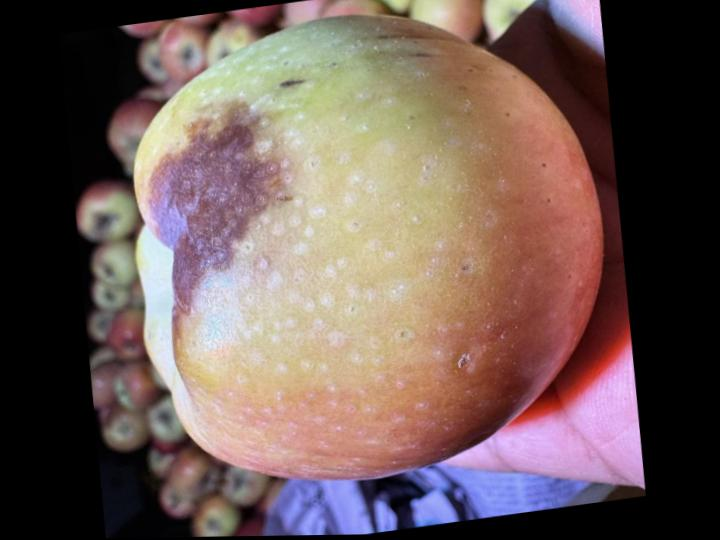apple: (134, 16, 601, 479)
surface_damage: (146, 104, 285, 314)
